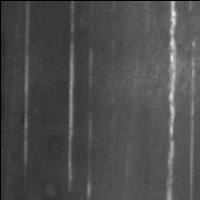scratches: (163, 1, 181, 200), (62, 1, 80, 186), (20, 1, 33, 178)
